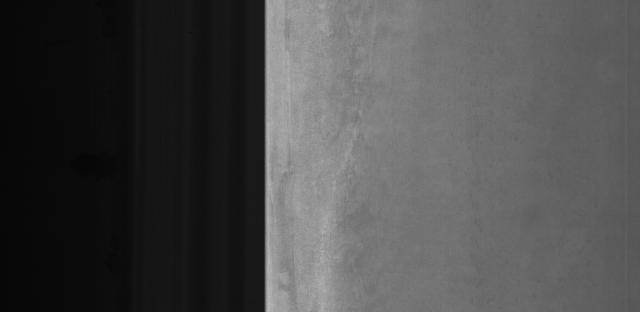silk_spot: (303, 32, 396, 160)
